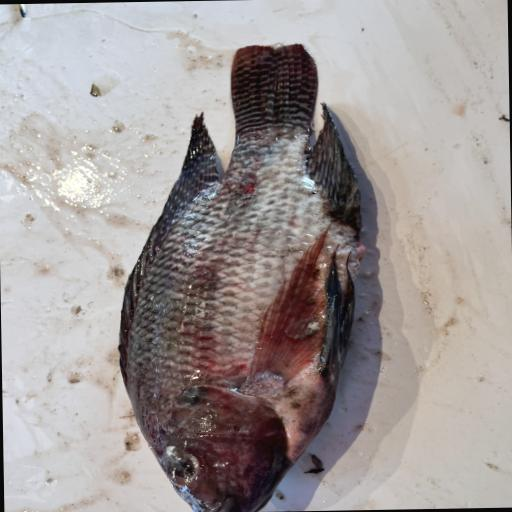Tilapia: (113, 42, 371, 512)
